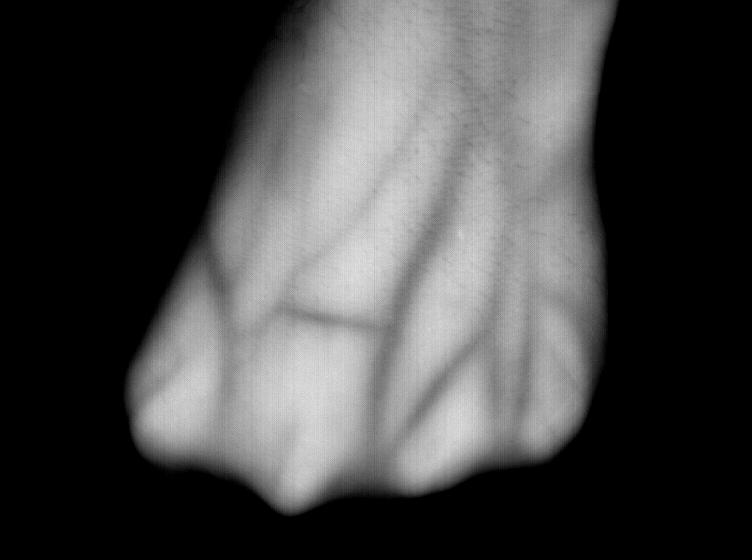Vein: (287, 123, 483, 420)
